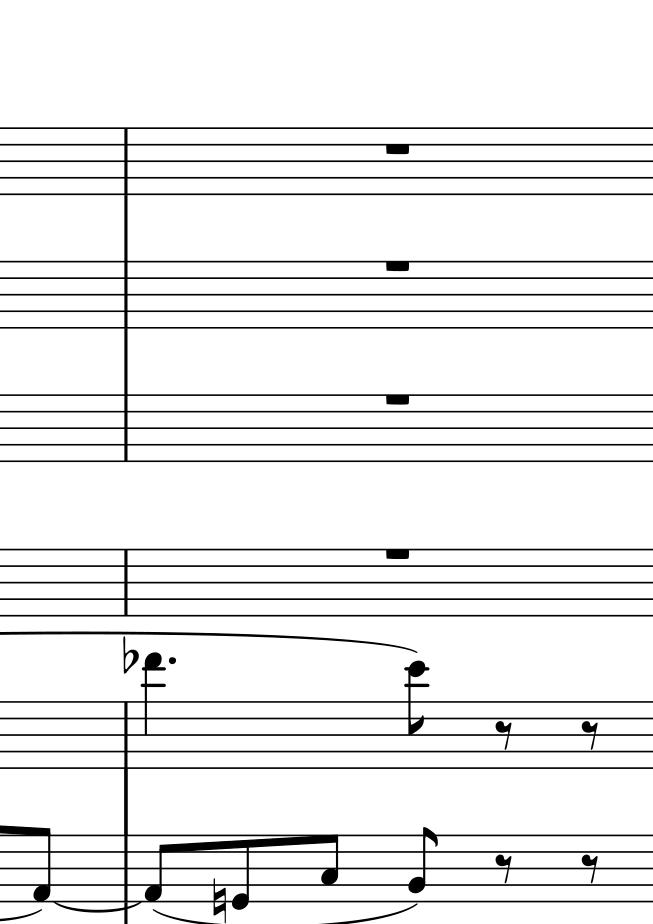4_13: (143, 652, 167, 771)
8_0: (230, 833, 252, 910)
8_1: (142, 833, 176, 905), (30, 825, 56, 903)
8_12: (405, 660, 432, 771)
8_2: (408, 826, 441, 903)
8_3: (318, 832, 342, 906)
Flat: (120, 636, 137, 674)
Natural: (210, 877, 229, 923)
Rests1: (381, 388, 411, 409), (381, 258, 414, 276), (383, 542, 411, 562), (383, 141, 415, 158)
Rests8: (579, 719, 602, 751), (580, 852, 602, 885), (494, 719, 515, 751), (493, 853, 514, 884)
Single_barline: (117, 833, 135, 909), (117, 127, 134, 195), (116, 396, 134, 460), (117, 261, 134, 327), (118, 701, 133, 765), (118, 547, 132, 614)
dot: (167, 654, 177, 666)
